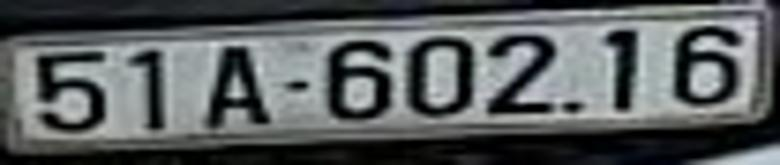-: (282, 78, 312, 96)
.: (564, 99, 585, 115)
0: (407, 36, 476, 117)
1: (126, 47, 171, 132), (605, 24, 641, 112)
2: (486, 34, 558, 117)
5: (38, 49, 107, 132)
6: (674, 24, 744, 107), (328, 38, 393, 121)
A: (204, 44, 271, 124)
